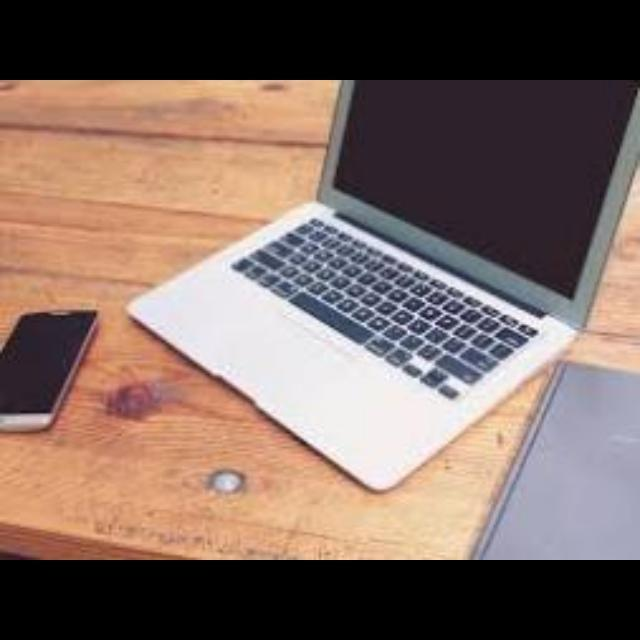PhoneUse: (0, 304, 101, 428)
